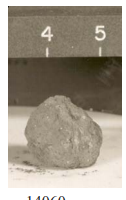Breccia: (27, 89, 109, 173)
